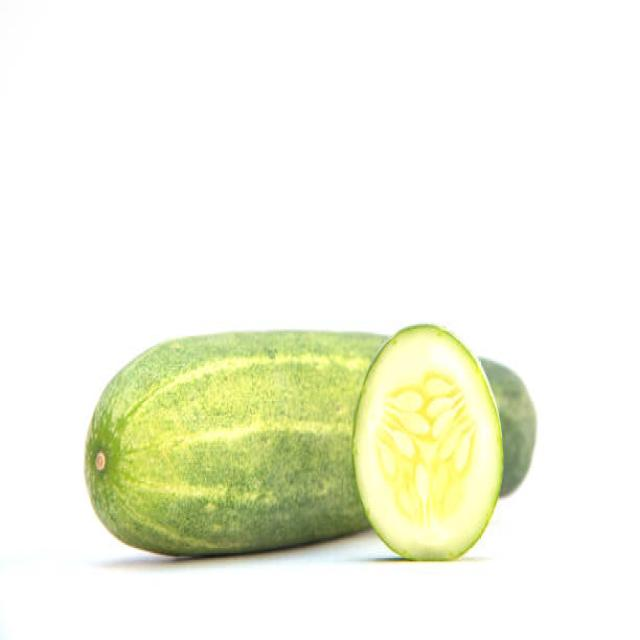cucumber: (83, 329, 537, 556)
